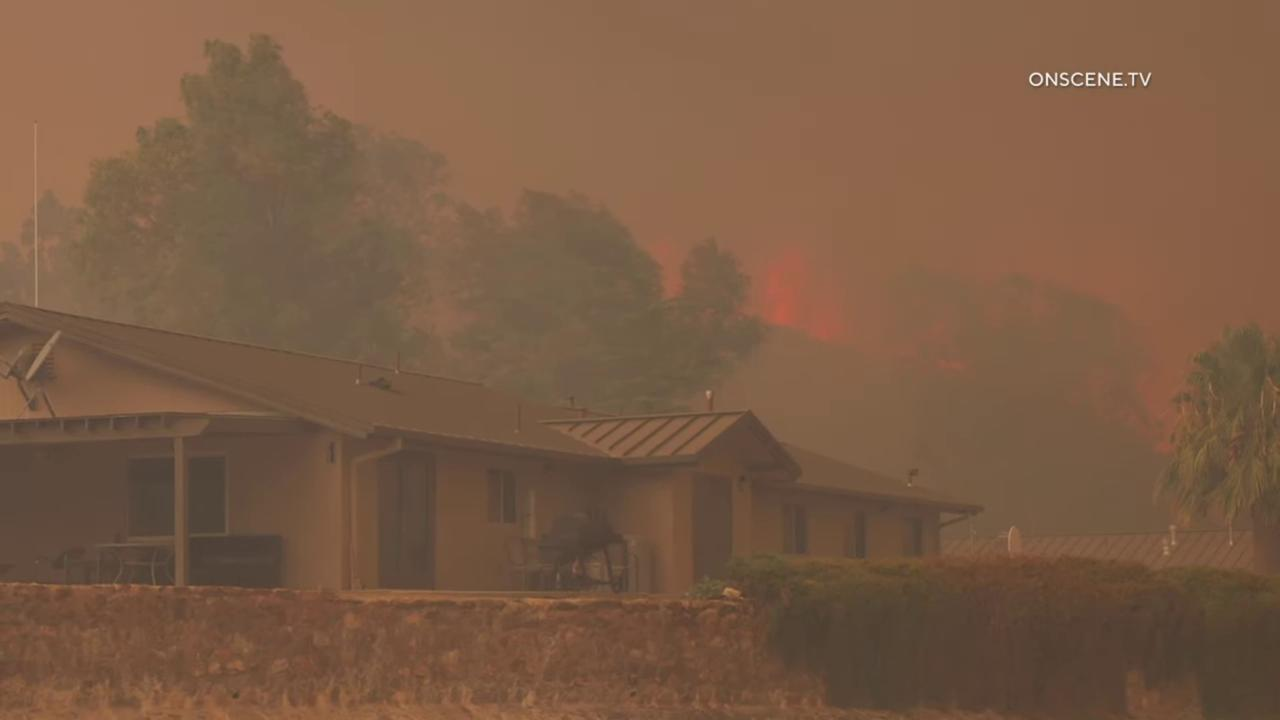fire: (733, 241, 849, 342), (643, 239, 695, 299)
smoke: (0, 0, 1280, 538)
